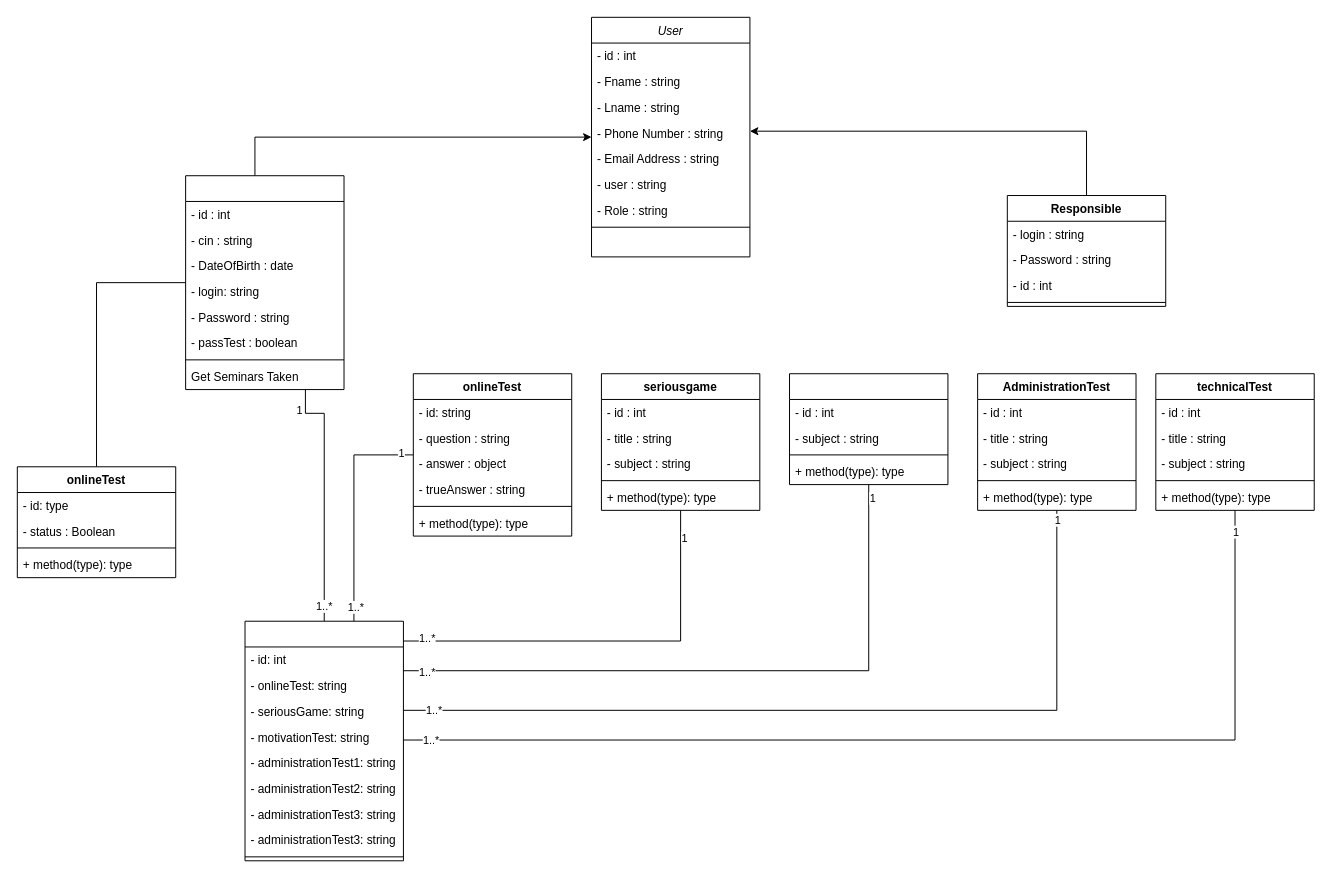
This 1332x878 diagram has some shape labels left out. Here are the shapes that lost their labels. From the top down, the box of each, then its label:
(185, 175, 344, 390): Candidate
(789, 373, 948, 485): motivationTest
(244, 620, 403, 861): Response
